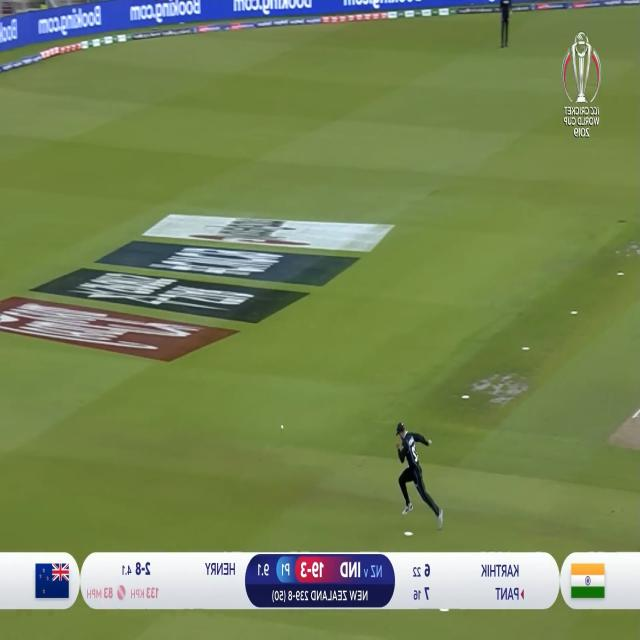ball: (273, 412, 290, 432), (278, 419, 289, 436), (277, 421, 286, 436)
